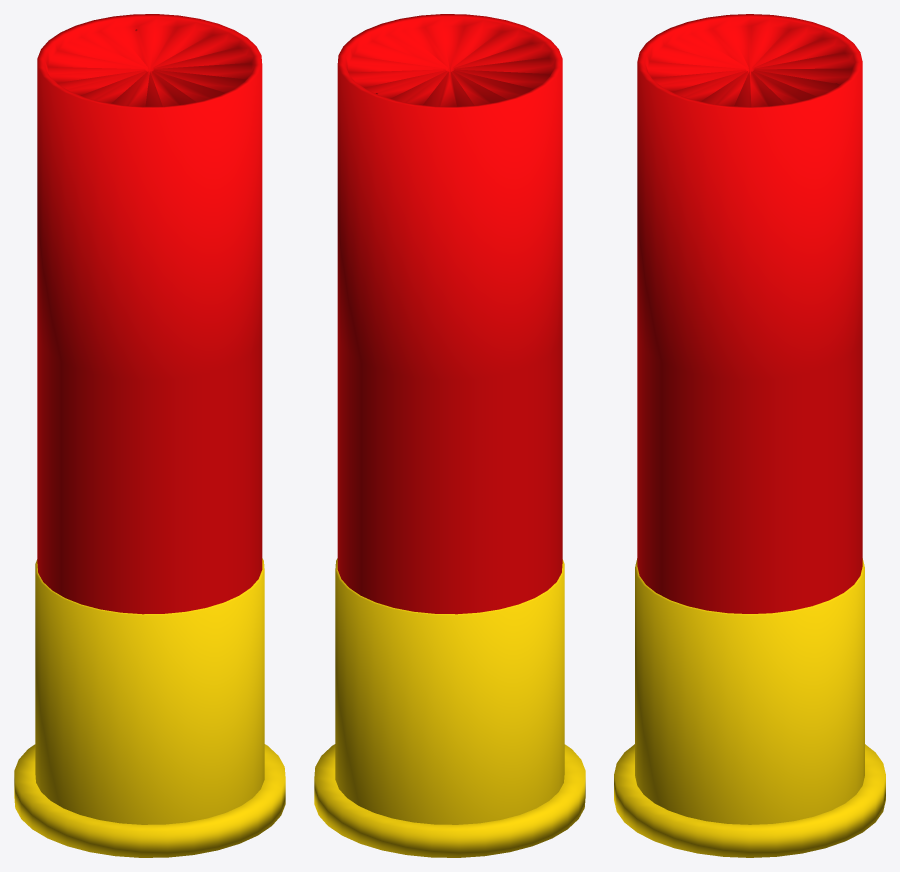
Rendered from placeholdermodel.glb.
3 renders of one model, left to right at view 1: azimuth 30°, elevation 25°; view 2: azimuth 150°, elevation 25°; view 3: azimuth 270°, elevation 25°, orthographic.
Visible parts, largest first — view 1: Cylinder; view 2: Cylinder; view 3: Cylinder.
Boxes of the visible parts, x1,y1,x2,y2 form: Cylinder: [14, 14, 285, 857]; Cylinder: [314, 14, 585, 857]; Cylinder: [614, 14, 885, 857].
Bounding box in the file's own units: 2.19 × 6.56 × 2.19.
1 material, 1 textured.
